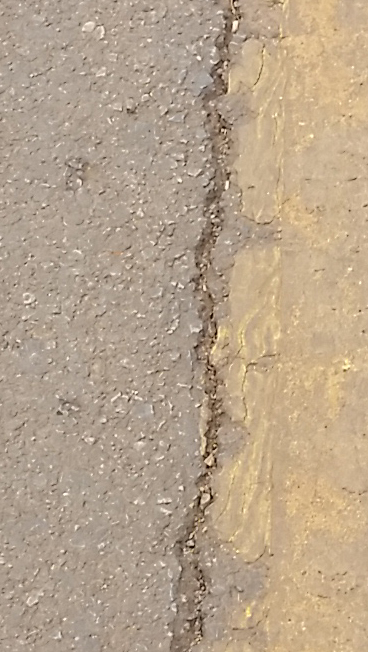A: (159, 2, 263, 646)
